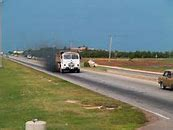smoke: (38, 45, 59, 72)
